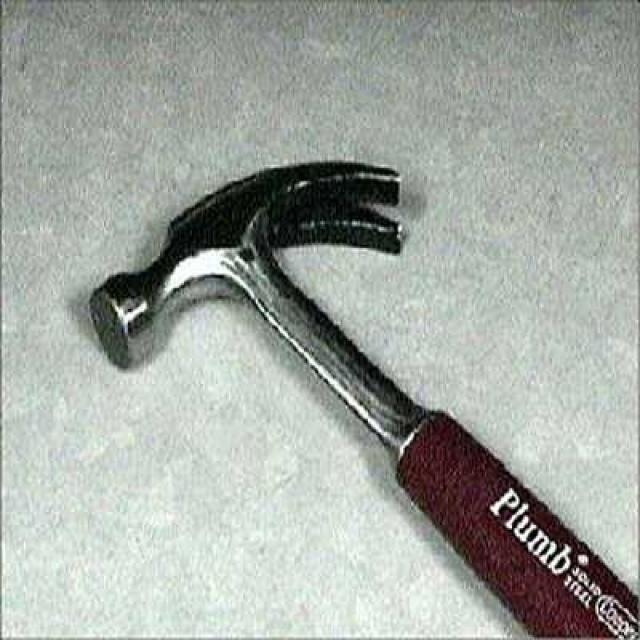hammer: (92, 149, 639, 640)
